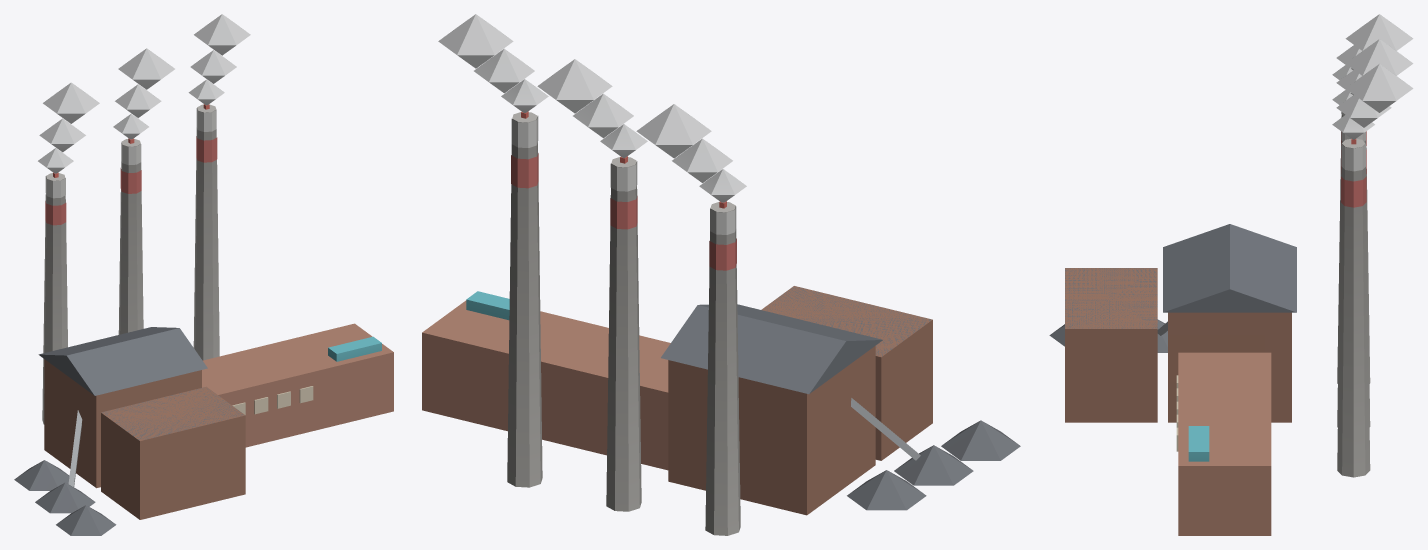
Rendered from plant_steam_l3.glb.
3 renders of one model, left to right at view 1: azimuth 30°, elevation 25°; view 2: azimuth 150°, elevation 25°; view 3: azimuth 270°, elevation 25°, orthographic. The views are drawn at different scales.
Parts seen in each view (by area): view 1: plant_steam_l3; view 2: plant_steam_l3; view 3: plant_steam_l3.
Boxes of the visible parts, x1,y1,x2,y2 form: plant_steam_l3: [14, 14, 393, 535]; plant_steam_l3: [422, 14, 1020, 535]; plant_steam_l3: [1049, 14, 1413, 535].
Bounding box in the file's own units: 98.06 × 90.28 × 70.6.
